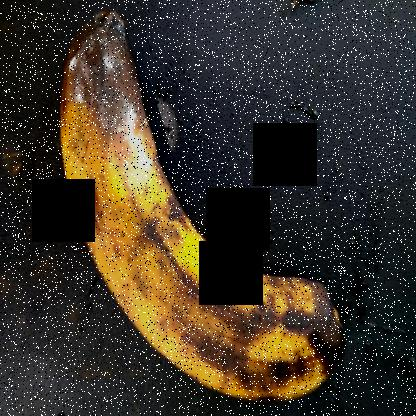overripe: (50, 1, 359, 410)
